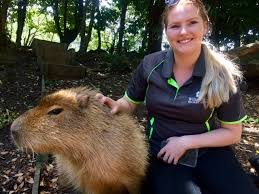capivara: (10, 87, 149, 194)
